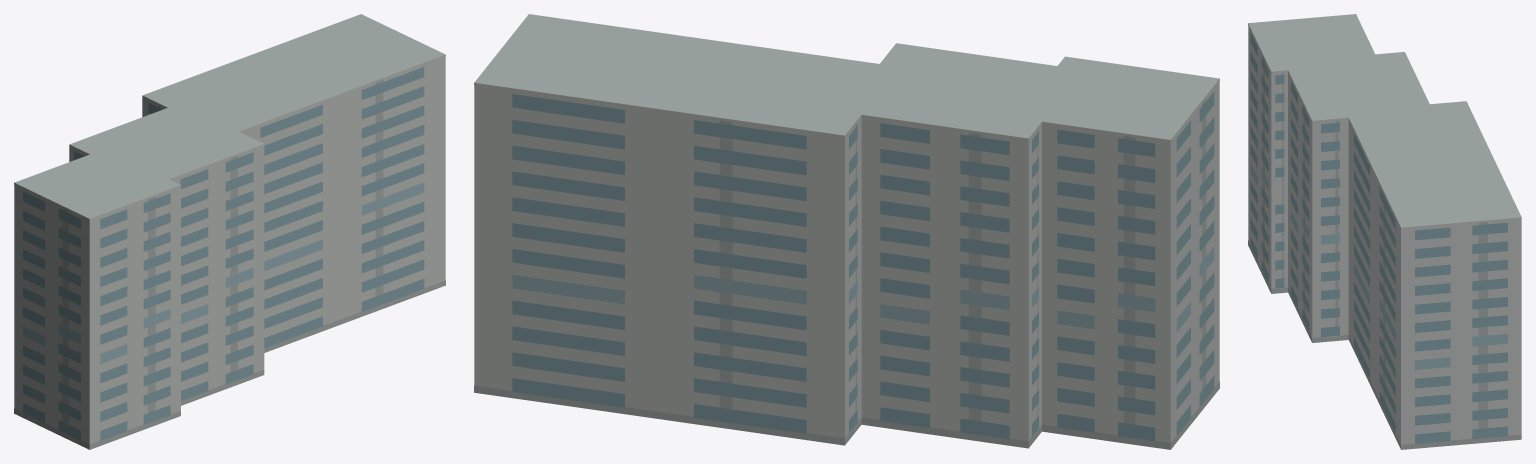
The model's file is residential-873534e3-6e70-4e5b-a9dc-a0e8586033f6.glb.
3 renders of one model, left to right at view 1: azimuth 30°, elevation 25°; view 2: azimuth 150°, elevation 25°; view 3: azimuth 270°, elevation 25°, orthographic. The views are drawn at different scales.
Visible parts, largest first — view 1: residential-873534e3-6e70-4e5b-a9dc-a0e8586033f6.tmp; view 2: residential-873534e3-6e70-4e5b-a9dc-a0e8586033f6.tmp; view 3: residential-873534e3-6e70-4e5b-a9dc-a0e8586033f6.tmp.
Boxes of the visible parts, x1,y1,x2,y2 form: residential-873534e3-6e70-4e5b-a9dc-a0e8586033f6.tmp: (14,14,445,449); residential-873534e3-6e70-4e5b-a9dc-a0e8586033f6.tmp: (474,14,1219,449); residential-873534e3-6e70-4e5b-a9dc-a0e8586033f6.tmp: (1248,14,1521,449).
Size of the model in its own units: 61.85 by 30 by 33.47.
